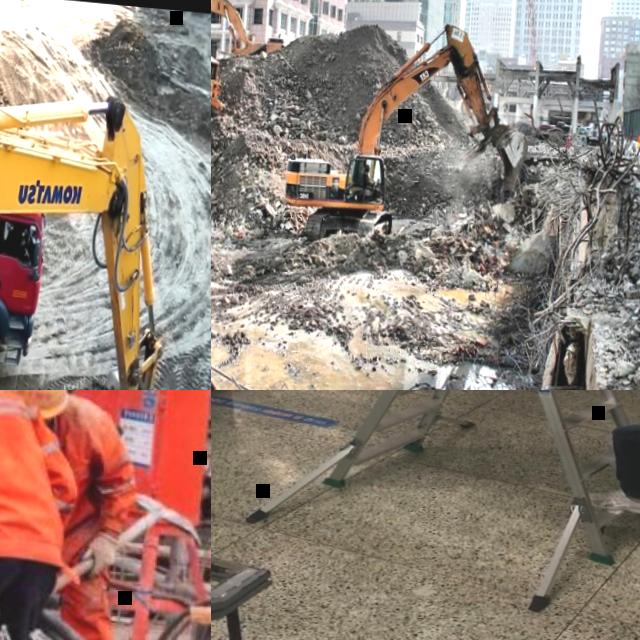Hardhat: (0, 390, 74, 418)
NO-Hardhat: (363, 163, 369, 169)
NO-Safety Vest: (3, 234, 22, 254)
Person: (0, 390, 141, 640), (501, 390, 640, 566), (0, 390, 91, 640), (2, 224, 30, 262), (361, 162, 373, 185)
Safety Vest: (34, 398, 123, 558), (0, 390, 71, 568)
vehicle: (0, 42, 211, 390), (275, 6, 536, 263), (211, 0, 288, 93), (211, 48, 228, 116), (586, 120, 598, 140)
